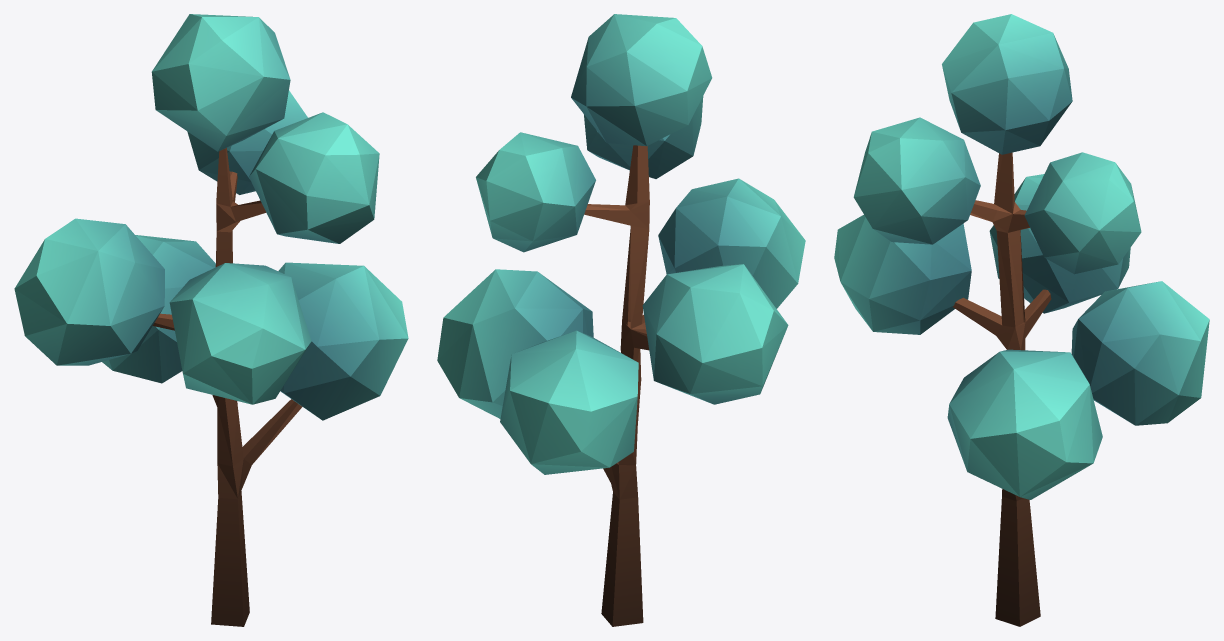
File: VEG0210034.fbx
The picture shows the model from 3 angles, left to right: view 1: azimuth 30°, elevation 25°; view 2: azimuth 150°, elevation 25°; view 3: azimuth 270°, elevation 25°; orthographic projection. The views are drawn at different scales.
Parts seen in each view (by area): view 1: smVEG0210034; view 2: smVEG0210034; view 3: smVEG0210034.
Part boxes in pixels (x1,y1,x2,y2): smVEG0210034: (14, 14, 408, 626); smVEG0210034: (437, 14, 805, 626); smVEG0210034: (834, 14, 1209, 626).
Size of the model in its own units: 433 by 723 by 417.
1 material, 1 textured.
